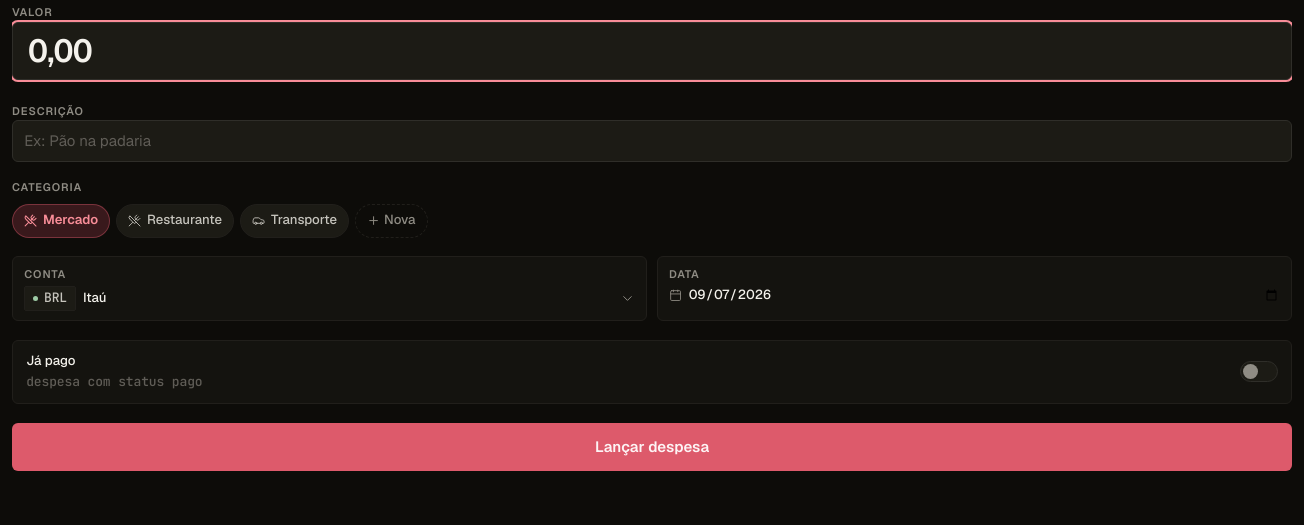
<LancarForm> › C7 — submit sem digitar valor envia 0 e mostra erro do servidor inline
This screenshot has width=1304, height=525.
Type "x" into the field labelled "Descrição" at (652, 141), box [12,120,1292,162]
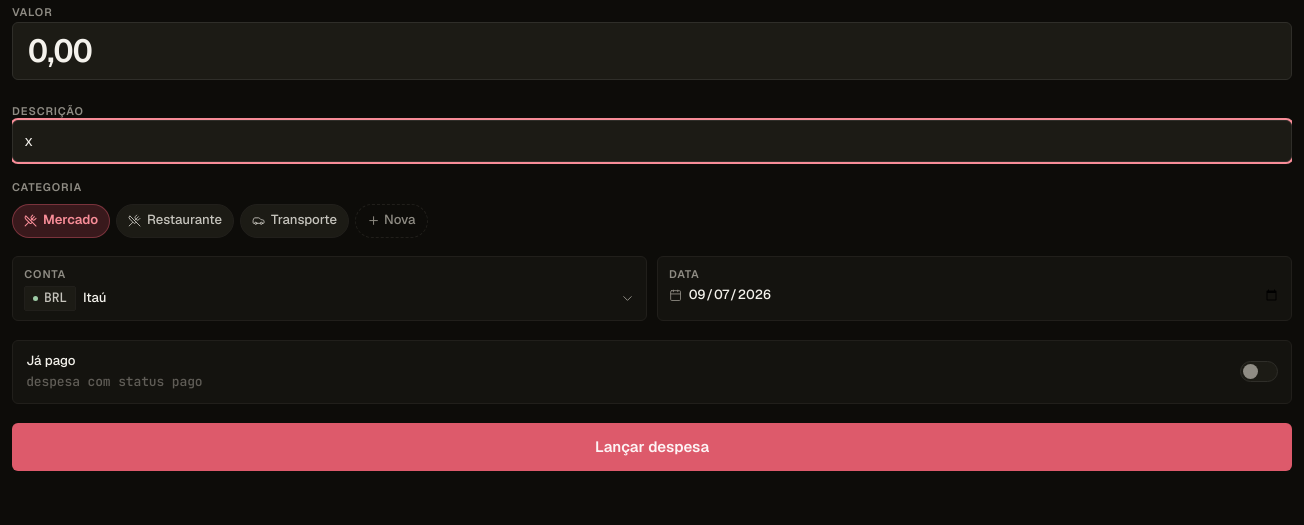
Click the button "Lançar despesa" at (652, 446), box [12,422,1292,470]
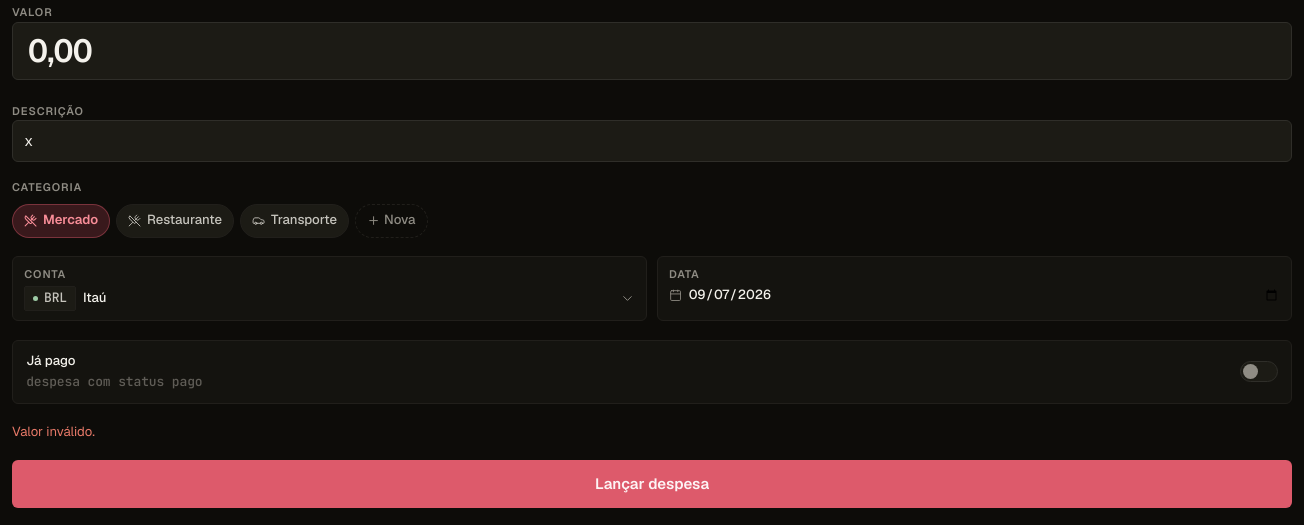
Expected: the message reads "Valor inválido.", [12,422,95,440]
